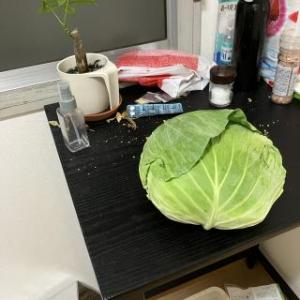cabbage: (137, 109, 289, 236)
